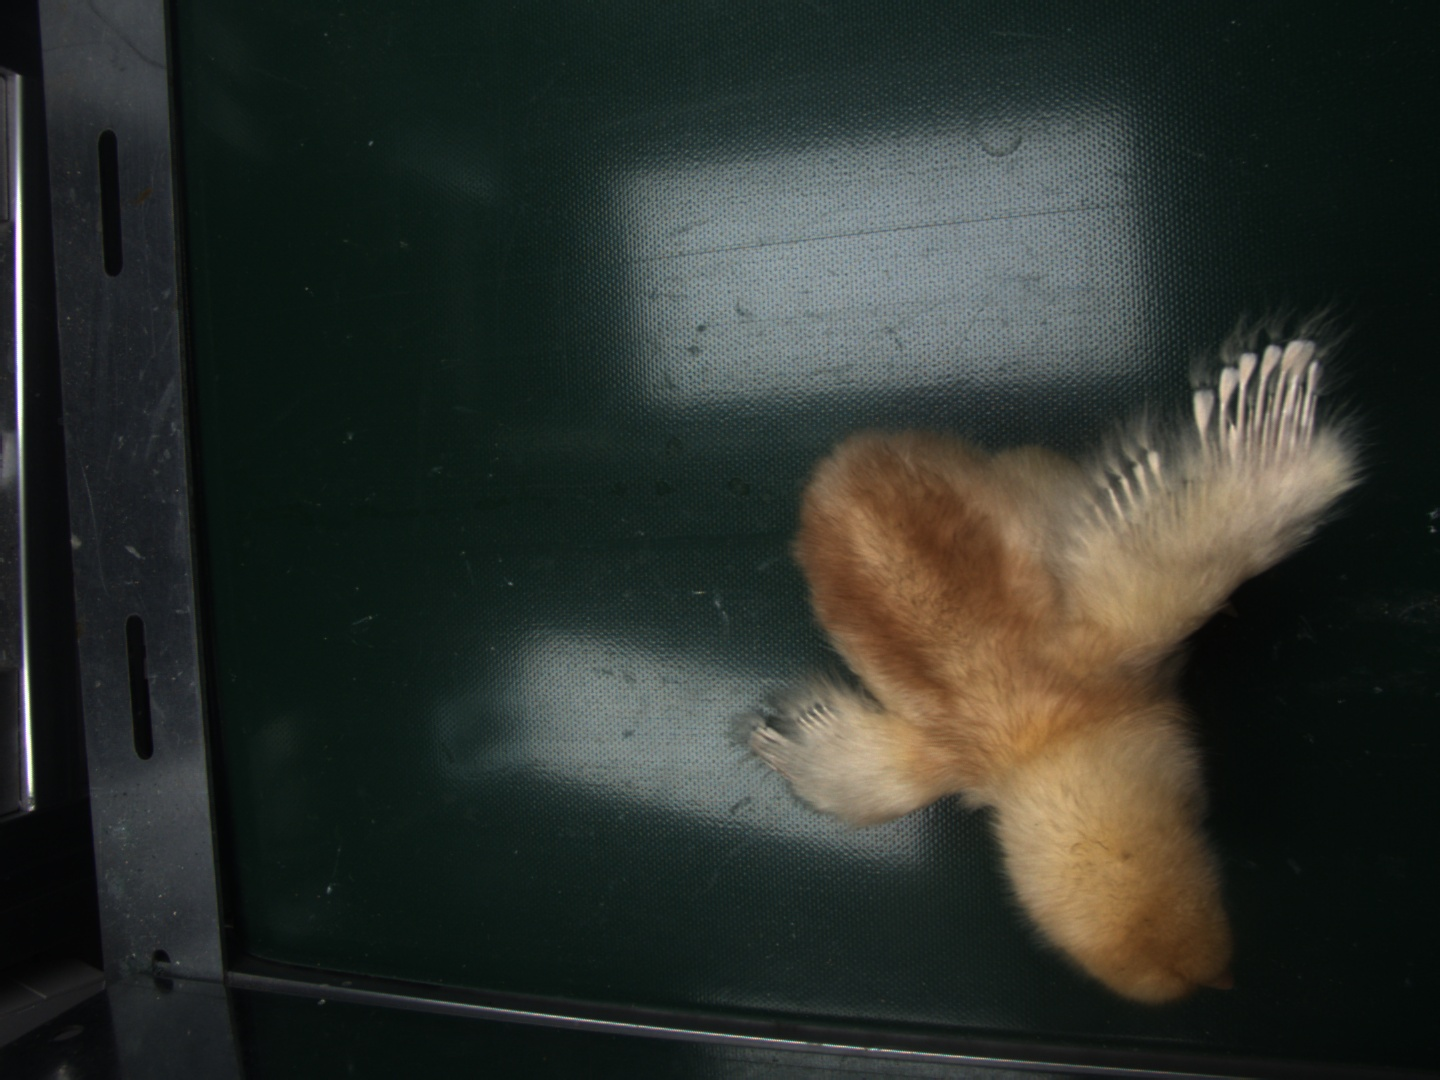female: (1210, 339, 1328, 442)
